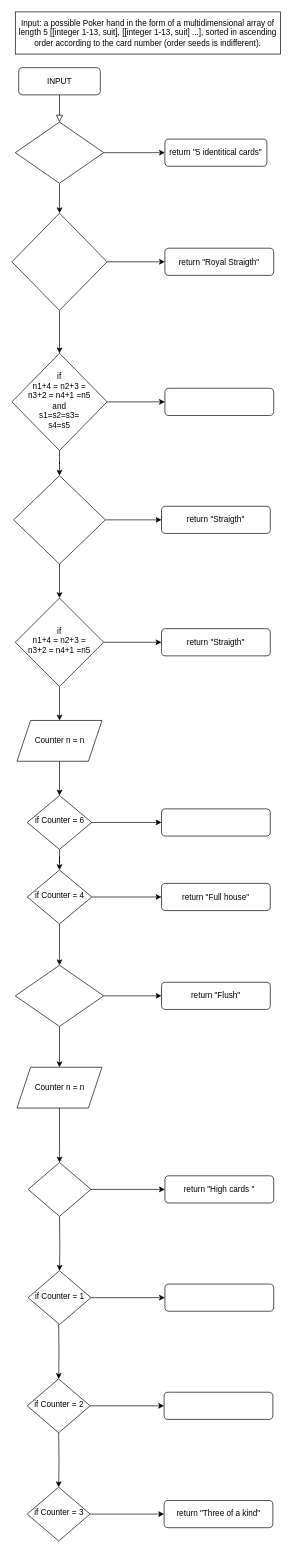
Image size: 292x1553. Some labels were removed from this diagram. The shapes that lost their labels are listed below. From the top down, each one's centre as x and y in pixels, then its label:
point 59,152: if n1 = n2 = n3 = n4 =n5
point 59,261: if n1=1, n2=10 n3=11, n4=12,, n5=13 and s1=s2=s3= s4=s5
point 219,401: return "Straigth Flush"
point 59,519: if n1=1, n2=10 n3=11, n4=12,, n5=13
point 215,822: return "Four of a kind"
point 59,995: if s1 = s2 = s3 = s4 =s5
point 59,1189: if Counter = 0
point 219,1297: return "Pair "
point 218,1405: return "Two Pair"
